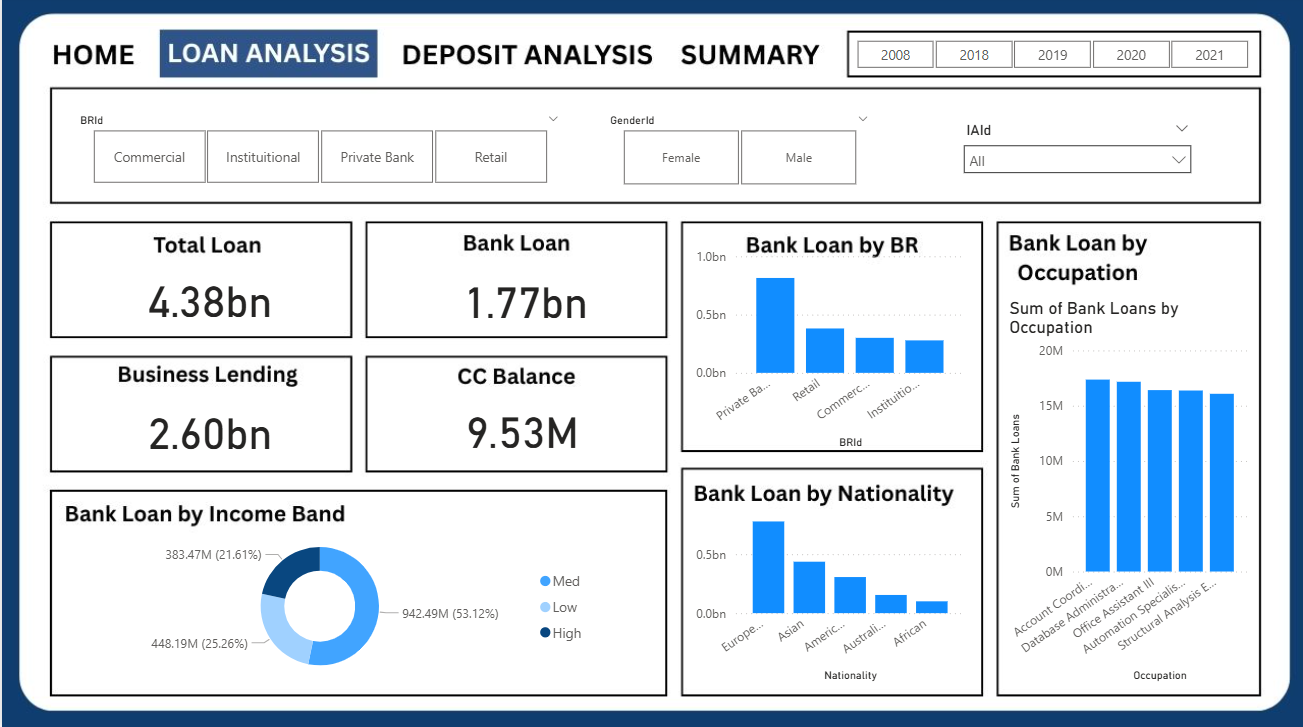

What the dashboard file says about the page in this screenshot:
{"tool":"powerbi","page":{"name":"Loan Analysis","canvas":[1280,720],"ordinal":1},"visuals":[{"type":"actionButton","box":[41.2,37,100.2,39.8],"z":0},{"type":"actionButton","box":[389.7,37,249.7,39.8],"z":1000},{"type":"actionButton","box":[661.4,37,142.7,39.8],"z":2000},{"type":"card","fields":{"Values":["Banking csv.Total_Loan"]},"box":[111.2,271.2,185,48.8],"z":3000},{"type":"slicer","fields":{"Values":["Banking csv.year_of_joining1"]},"box":[813.6,37.3,433.6,40],"z":4000},{"type":"card","fields":{"Values":["Sum(Banking csv.Bank Loans)"]},"box":[422.5,272.5,183.8,48.8],"z":5000},{"type":"card","fields":{"Values":["Sum(Banking csv.Credit Card Balance)"]},"box":[436.2,401.2,147.5,47.5],"z":6000},{"type":"donutChart","fields":{"Category":["Banking csv.Income Band"],"Y":["Sum(Banking csv.Bank Loans)"]},"box":[91.9,520.1,491.3,157.8],"z":7000},{"type":"clusteredColumnChart","fields":{"Category":["Banking csv.BRId"],"Y":["Sum(Banking csv.Bank Loans)"]},"box":[676.5,241.5,274.4,207.2],"z":8000},{"type":"clusteredColumnChart","fields":{"Y":["Sum(Banking csv.Bank Loans)"],"Category":["Banking csv.Nationality"]},"box":[676.5,499.5,274.4,178.4],"z":9000},{"type":"clusteredColumnChart","fields":{"Category":["Banking csv.Occupation"],"Y":["Sum(Banking csv.Bank Loans)"]},"box":[984.4,295.6,243.3,382.2],"z":10000},{"type":"slicer","fields":{"Values":["Banking csv.BRId"]},"box":[63.8,110,495,80],"z":11000},{"type":"slicer","fields":{"Values":["Banking csv.GenderId"]},"box":[583.8,110,278.8,81.2],"z":12000},{"type":"slicer","fields":{"Values":["Banking csv.IAId"]},"box":[933.8,117.5,243.8,68.8],"z":13000},{"type":"card","fields":{"Values":["Sum(Banking csv.Business Lending)"]},"box":[111.2,401.2,185,48.8],"z":14000}]}

Visuals, with their boxes in screenshot pixels (x1, y1, x2, y2), scaled from the page's 1280x720 canvas onto the 1303x727 screenshot:
actionButton: bbox=[42, 37, 144, 78]
actionButton: bbox=[397, 37, 651, 78]
actionButton: bbox=[673, 37, 819, 78]
card - Banking csv.Total_Loan: bbox=[113, 274, 302, 323]
slicer - Banking csv.year_of_joining1: bbox=[828, 38, 1270, 78]
card - Sum(Banking csv.Bank Loans): bbox=[430, 275, 617, 324]
card - Sum(Banking csv.Credit Card Balance): bbox=[444, 405, 594, 453]
donutChart - Banking csv.Income Band x Sum(Banking csv.Bank Loans): bbox=[94, 525, 594, 684]
clusteredColumnChart - Banking csv.BRId x Sum(Banking csv.Bank Loans): bbox=[689, 244, 968, 453]
clusteredColumnChart - Sum(Banking csv.Bank Loans) x Banking csv.Nationality: bbox=[689, 504, 968, 684]
clusteredColumnChart - Banking csv.Occupation x Sum(Banking csv.Bank Loans): bbox=[1002, 298, 1250, 684]
slicer - Banking csv.BRId: bbox=[65, 111, 569, 192]
slicer - Banking csv.GenderId: bbox=[594, 111, 878, 193]
slicer - Banking csv.IAId: bbox=[951, 119, 1199, 188]
card - Sum(Banking csv.Business Lending): bbox=[113, 405, 302, 454]
